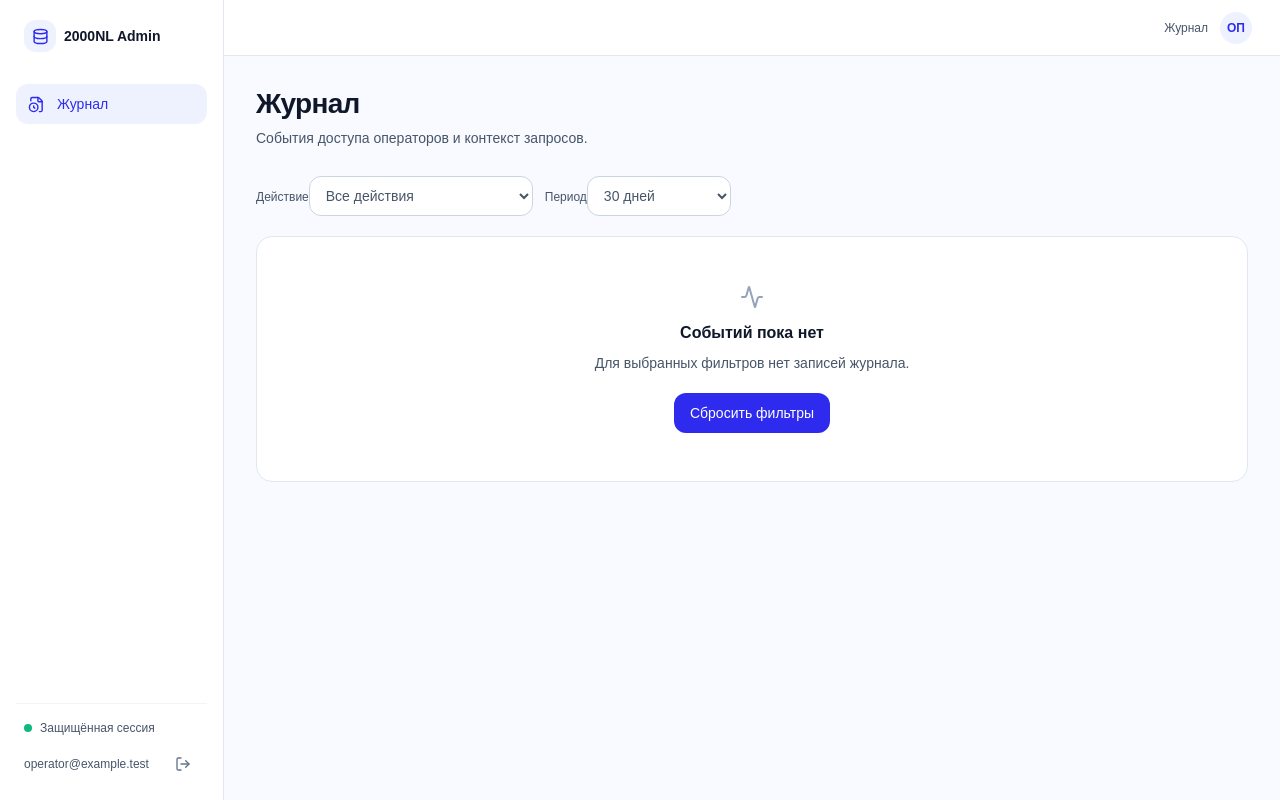
Test: reports an incomplete logout instead of claiming success
Expected: the heading "Журнал" is shown, x1=256 y1=88 x2=360 y2=119
Click the button named "Выйти". click: (183, 764)
box: x1=167 y1=748 x2=199 y2=780
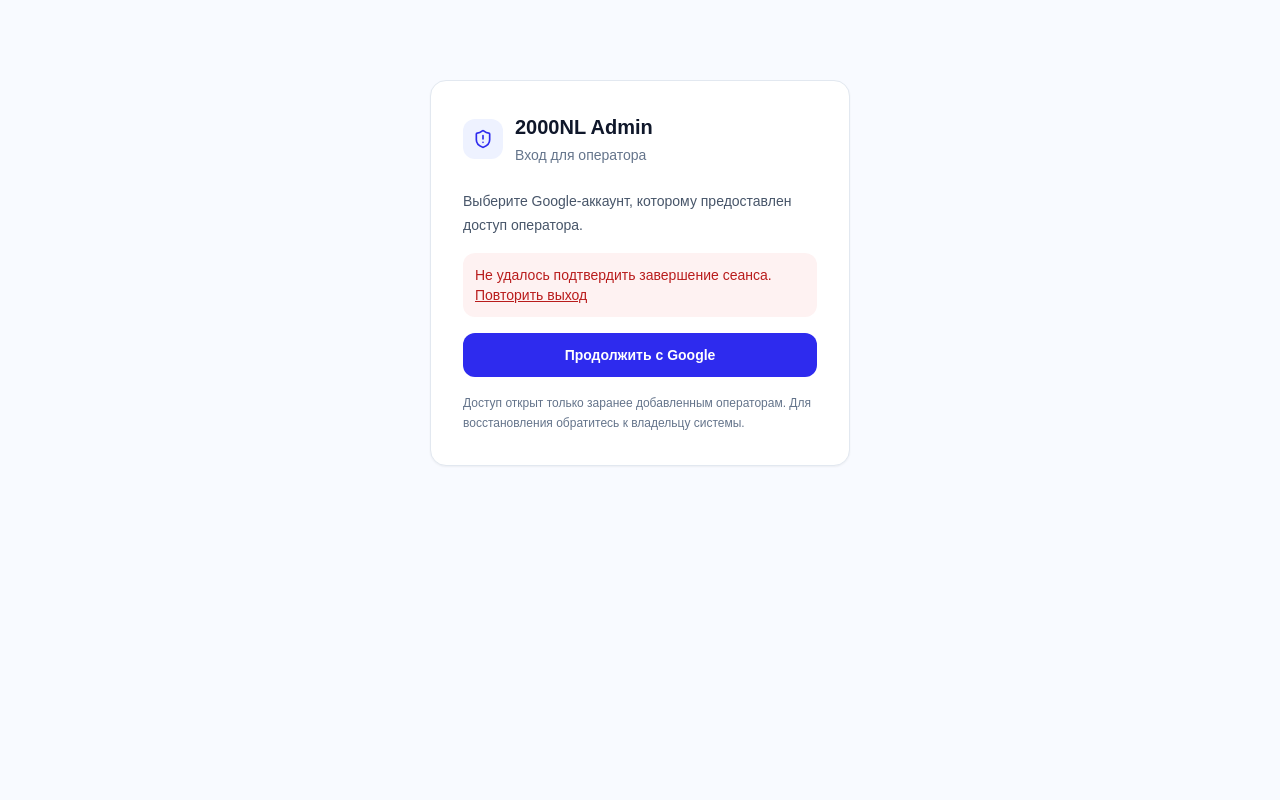
Now the message shows "Не удалось подтвердить завершение сеанса", box x1=475 y1=267 x2=772 y2=283
